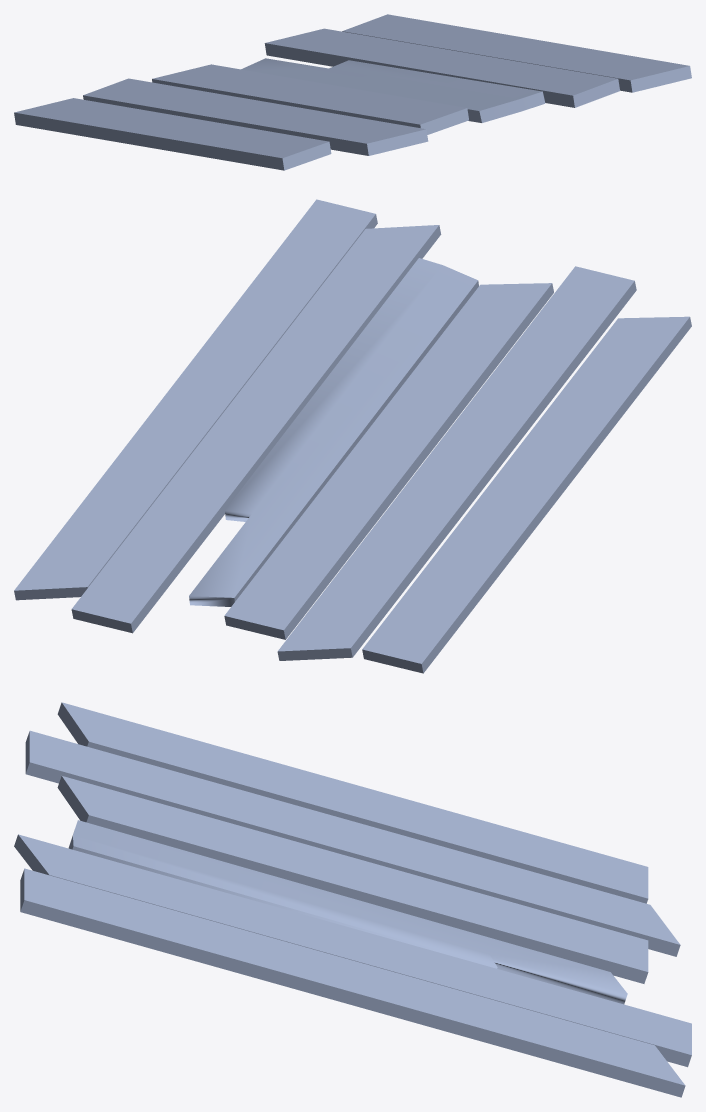
Rendered from Battlement_Roof_01B_Lod0.fbx.
The picture shows the model from 3 angles, top to bottom: view 1: azimuth 30°, elevation 25°; view 2: azimuth 150°, elevation 25°; view 3: azimuth 270°, elevation 25°; orthographic projection. The views are drawn at different scales.
Visible parts, largest first — view 1: Battlement_Roof_01B_Lod0; view 2: Battlement_Roof_01B_Lod0; view 3: Battlement_Roof_01B_Lod0.
Part boxes in pixels (x1,y1,x2,y2): Battlement_Roof_01B_Lod0: (14, 14, 691, 170); Battlement_Roof_01B_Lod0: (14, 199, 691, 673); Battlement_Roof_01B_Lod0: (14, 702, 691, 1097).
Size of the model in its own units: 130 by 58.53 by 179.
